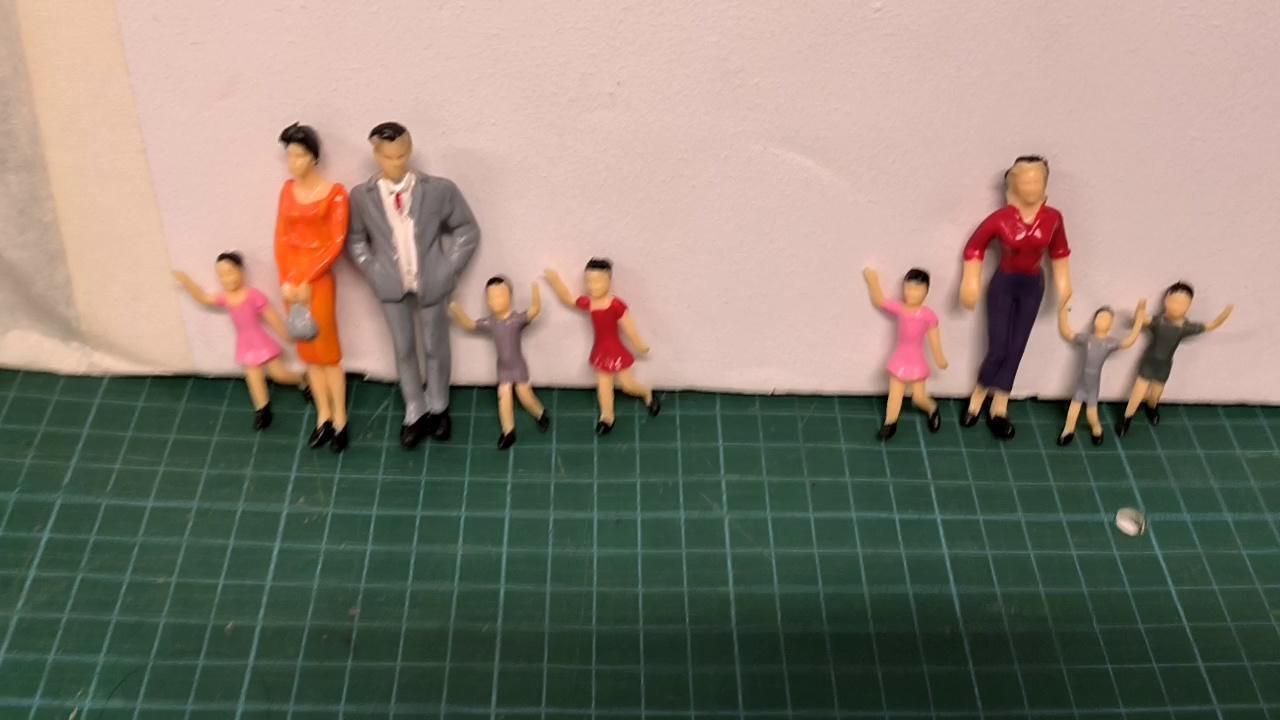human: (345, 120, 487, 452), (959, 152, 1074, 440), (267, 122, 355, 456), (175, 246, 327, 426), (538, 256, 664, 440), (1118, 276, 1245, 432), (448, 276, 544, 452), (861, 262, 950, 438), (1057, 294, 1148, 452)
